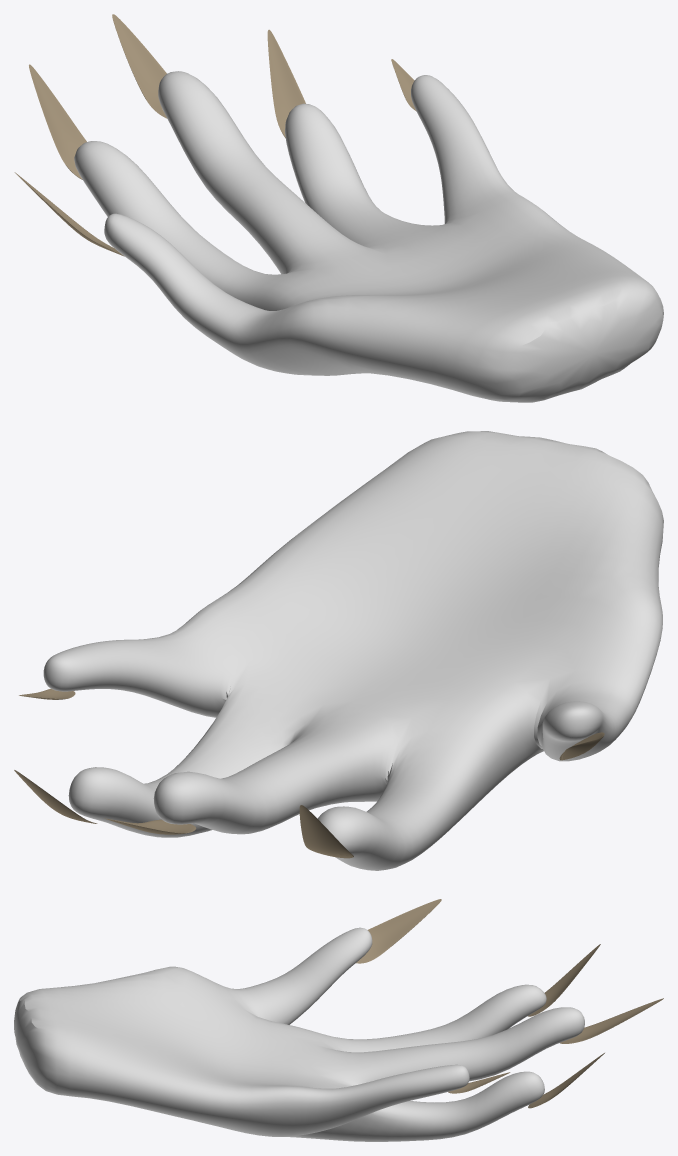
The model's file is M4BO_hand_medy.fbx.
3 views of the same model, one above another, from view 1: azimuth 30°, elevation 25°; view 2: azimuth 150°, elevation 25°; view 3: azimuth 270°, elevation 25° (orthographic). The views are drawn at different scales.
Parts seen in each view (by area): view 1: hand, nails; view 2: hand, nails; view 3: hand, nails.
Boxes of the visible parts, box(x1,y1,x2,y2) form: hand: box(74, 71, 663, 402); nails: box(14, 14, 416, 256); hand: box(43, 431, 663, 870); nails: box(14, 688, 604, 858); hand: box(14, 927, 584, 1141); nails: box(356, 899, 663, 1108).
Size of the model in its own units: 767 by 279 by 1311.
